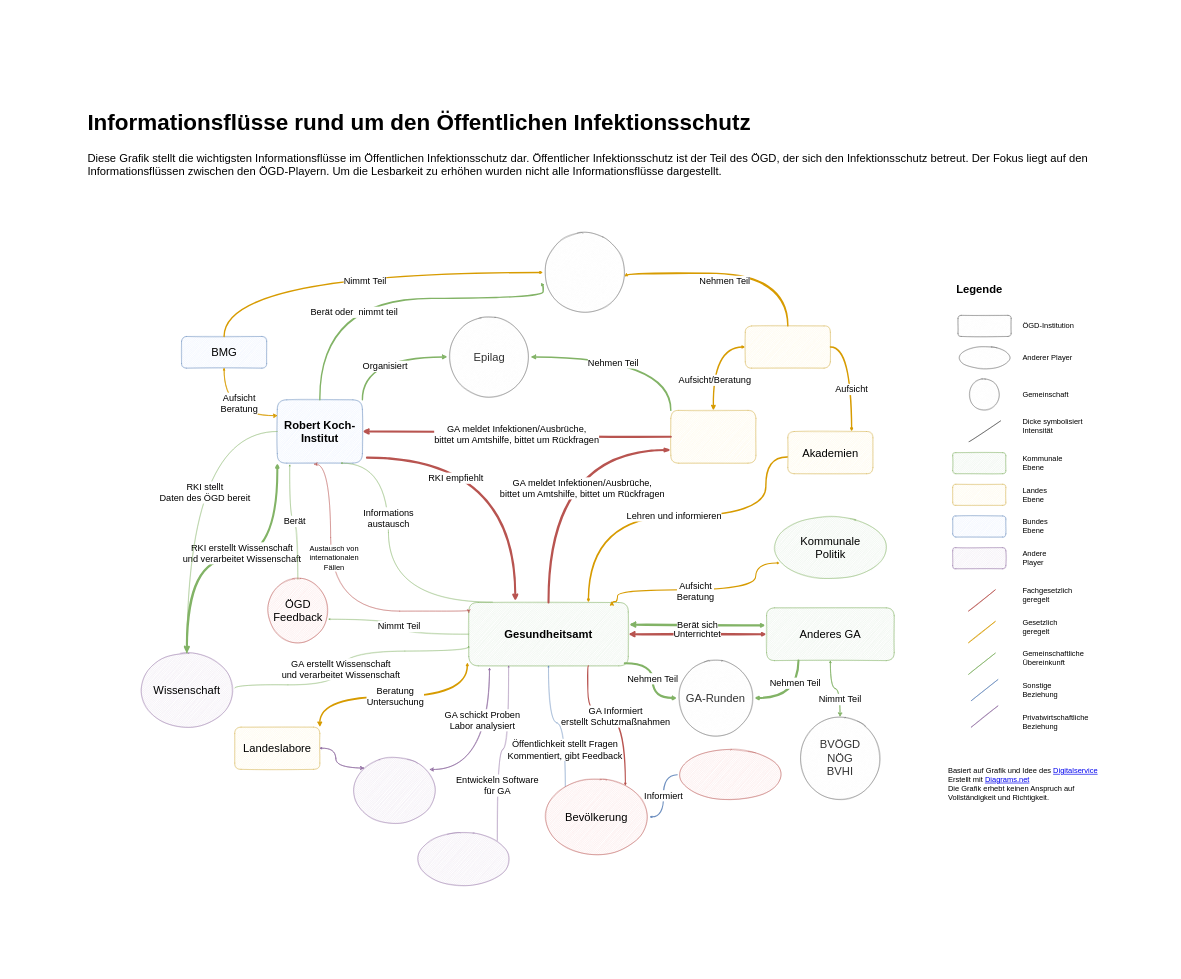
This 1181x979 diagram has some shape labels left out. Each missing label, with the centre of its shape:
"Labore" goes at (x=394, y=790).
"Landes ministerien" goes at (x=787, y=347).
"Landes-konferenzen" goes at (x=584, y=272).
"Landesstelle" goes at (x=713, y=436).
"Presse" goes at (x=730, y=774).
"Software Unternehmen" goes at (x=463, y=858).
